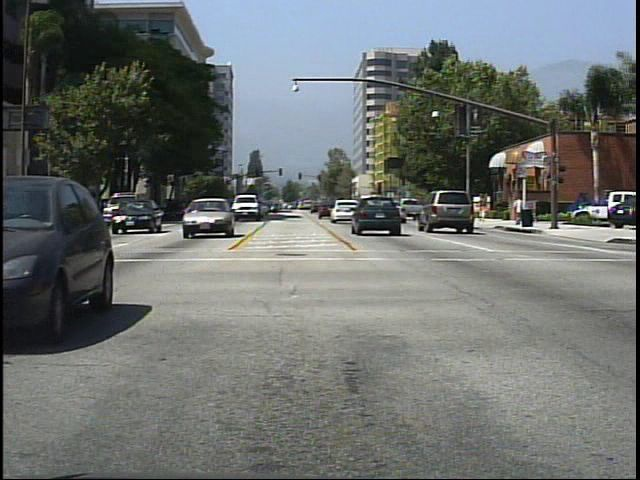person: (510, 194, 524, 229), (479, 190, 491, 224)
